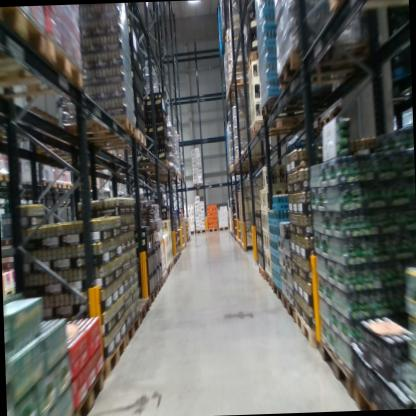pallet: (0, 32, 86, 106), (276, 37, 366, 91), (239, 148, 272, 256), (0, 6, 51, 73), (317, 331, 354, 403), (260, 85, 335, 120), (72, 360, 111, 416), (62, 114, 134, 140), (250, 110, 315, 138), (76, 127, 148, 152), (323, 0, 409, 20), (100, 333, 128, 390), (293, 304, 319, 352), (350, 374, 380, 410), (315, 108, 343, 137), (120, 312, 143, 341), (279, 285, 296, 324), (131, 295, 152, 325), (146, 165, 178, 183), (228, 72, 254, 93), (133, 159, 170, 173), (269, 276, 281, 306), (149, 274, 163, 298), (262, 267, 272, 294), (145, 289, 157, 308), (256, 260, 265, 280), (157, 268, 167, 285), (191, 180, 204, 191), (218, 224, 230, 234), (208, 226, 220, 235), (195, 227, 207, 236), (189, 227, 198, 236), (166, 262, 171, 277), (169, 258, 174, 270)
